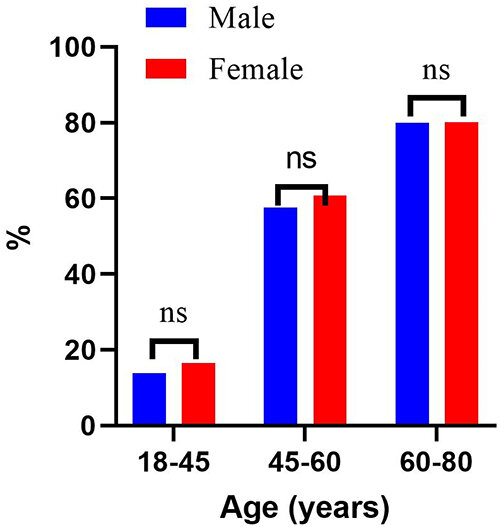OK_NoIssue: (11, 0, 500, 483)
